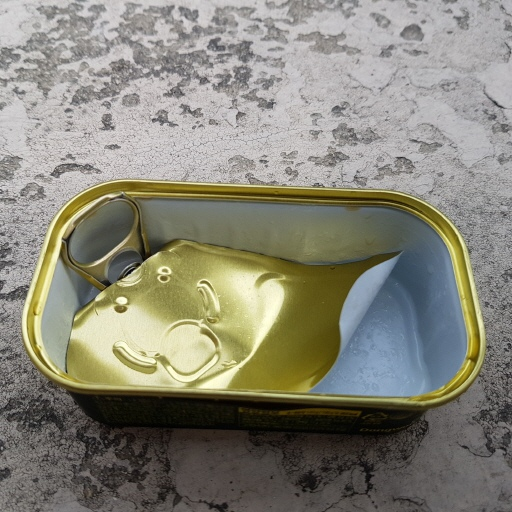Metal_2: (20, 178, 492, 436)
